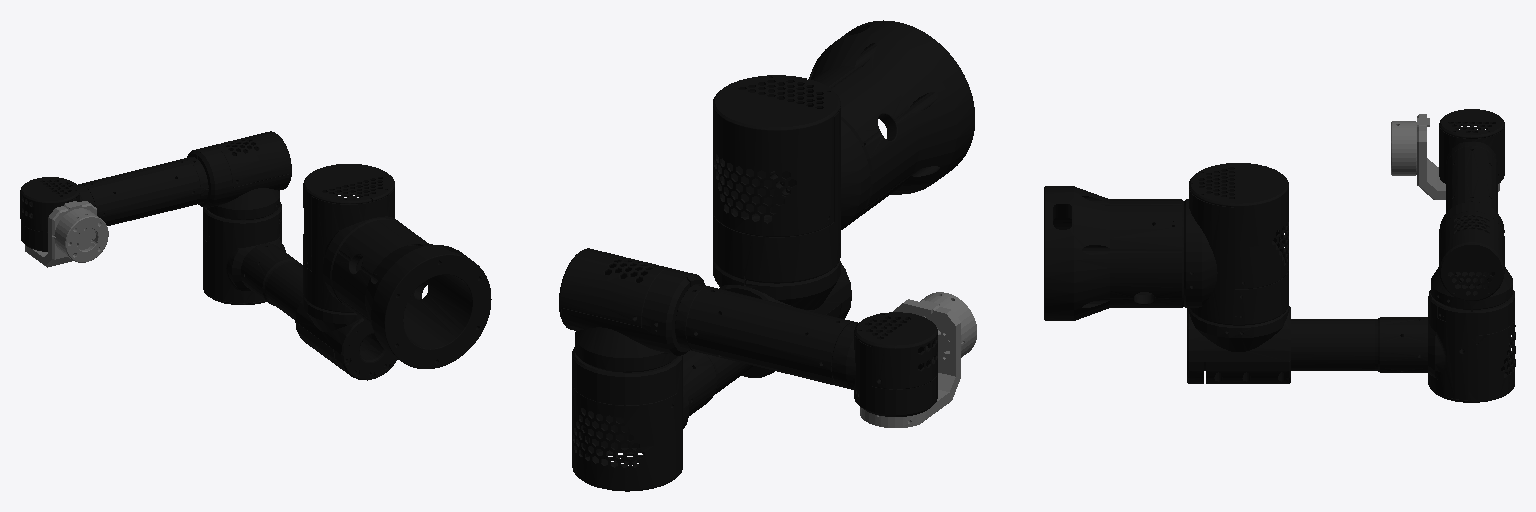
robot.urdf — HexaArm_Mini_Nema_Assem.SLDASM5:
<?xml version="1.0" encoding="utf-8"?>
<!-- This URDF was automatically created by SolidWorks to URDF Exporter! Originally created by Stephen Brawner (brawner@gmail.com) 
     Commit Version: 1.6.0-4-g7f85cfe  Build Version: 1.6.7995.38578
     For more information, please see http://wiki.ros.org/sw_urdf_exporter -->
<robot
  name="HexaArm_Mini_Nema_Assem.SLDASM5">
  <link
    name="base_link">
    <inertial>
      <origin
        xyz="-0.000619586771899105 0.0703032322530621 -0.00106148430765796"
        rpy="0 0 0" />
      <mass
        value="1.08217571048909" />
      <inertia
        ixx="0.00463164331238356"
        ixy="-3.22218490109699E-05"
        ixz="1.9764733562562E-05"
        iyy="0.003870198263406"
        iyz="-5.49317565063621E-05"
        izz="0.00465569487064889" />
    </inertial>
    <visual>
      <origin
        xyz="0 0 0"
        rpy="0 0 0" />
      <geometry>
        <mesh
          filename="package://HexaArm_Mini_Nema_Assem.SLDASM5/meshes/base_link.STL" />
      </geometry>
      <material
        name="">
        <color
          rgba="0.0980392156862745 0.0980392156862745 0.0980392156862745 1" />
      </material>
    </visual>
    <collision>
      <origin
        xyz="0 0 0"
        rpy="0 0 0" />
      <geometry>
        <mesh
          filename="package://HexaArm_Mini_Nema_Assem.SLDASM5/meshes/base_link.STL" />
      </geometry>
    </collision>
  </link>
  <link
    name="Link_1">
    <inertial>
      <origin
        xyz="3.88138147860984E-05 0.0424465866639341 0.00109896219679673"
        rpy="0 0 0" />
      <mass
        value="0.607587806468961" />
      <inertia
        ixx="0.00191607693747045"
        ixy="7.4158114547171E-08"
        ixz="-5.44697602656197E-07"
        iyy="0.00202580543608633"
        iyz="-0.000171809803455921"
        izz="0.00165130031760462" />
    </inertial>
    <visual>
      <origin
        xyz="0 0 0"
        rpy="0 0 0" />
      <geometry>
        <mesh
          filename="package://HexaArm_Mini_Nema_Assem.SLDASM5/meshes/Link_1.STL" />
      </geometry>
      <material
        name="">
        <color
          rgba="0.0980392156862745 0.0980392156862745 0.0980392156862745 1" />
      </material>
    </visual>
    <collision>
      <origin
        xyz="0 0 0"
        rpy="0 0 0" />
      <geometry>
        <mesh
          filename="package://HexaArm_Mini_Nema_Assem.SLDASM5/meshes/Link_1.STL" />
      </geometry>
    </collision>
  </link>
  <joint
    name="Joint_1"
    type="continuous">
    <origin
      xyz="0 0.1605 0"
      rpy="-3.14159265358979 0 3.14159265358842" />
    <parent
      link="base_link" />
    <child
      link="Link_1" />
    <axis
      xyz="0 -1 0" />
  </joint>
  <link
    name="Link_2">
    <inertial>
      <origin
        xyz="-1.54885659161552E-05 0.094342144277815 -0.107331638233284"
        rpy="0 0 0" />
      <mass
        value="1.11953724293919" />
      <inertia
        ixx="0.0172274441423924"
        ixy="3.40668045687898E-06"
        ixz="1.02342554233938E-06"
        iyy="0.00184980071551865"
        iyz="-0.000342542354378944"
        izz="0.0171298822141241" />
    </inertial>
    <visual>
      <origin
        xyz="0 0 0"
        rpy="0 0 0" />
      <geometry>
        <mesh
          filename="package://HexaArm_Mini_Nema_Assem.SLDASM5/meshes/Link_2.STL" />
      </geometry>
      <material
        name="">
        <color
          rgba="0.0980392156862745 0.0980392156862745 0.0980392156862745 1" />
      </material>
    </visual>
    <collision>
      <origin
        xyz="0 0 0"
        rpy="0 0 0" />
      <geometry>
        <mesh
          filename="package://HexaArm_Mini_Nema_Assem.SLDASM5/meshes/Link_2.STL" />
      </geometry>
    </collision>
  </link>
  <joint
    name="Joint_2"
    type="continuous">
    <origin
      xyz="0 0.0625000000000049 -0.000798502810556823"
      rpy="3.14159265358979 0 3.14159265358979" />
    <parent
      link="Link_1" />
    <child
      link="Link_2" />
    <axis
      xyz="0 0 -1" />
  </joint>
  <link
    name="Link_3">
    <inertial>
      <origin
        xyz="0.000885895254364 0.00930543384877369 0.021081024614505"
        rpy="0 0 0" />
      <mass
        value="0.280830447562642" />
      <inertia
        ixx="0.000454000045481955"
        ixy="2.04657657417616E-06"
        ixz="7.40071593815089E-07"
        iyy="0.000342653791090752"
        iyz="6.07527818427745E-05"
        izz="0.000465365946674616" />
    </inertial>
    <visual>
      <origin
        xyz="0 0 0"
        rpy="0 0 0" />
      <geometry>
        <mesh
          filename="package://HexaArm_Mini_Nema_Assem.SLDASM5/meshes/Link_3.STL" />
      </geometry>
      <material
        name="">
        <color
          rgba="0.0980392156862745 0.0980392156862745 0.0980392156862745 1" />
      </material>
    </visual>
    <collision>
      <origin
        xyz="0 0 0"
        rpy="0 0 0" />
      <geometry>
        <mesh
          filename="package://HexaArm_Mini_Nema_Assem.SLDASM5/meshes/Link_3.STL" />
      </geometry>
    </collision>
  </link>
  <joint
    name="Joint_3"
    type="continuous">
    <origin
      xyz="0 0.2675 0"
      rpy="-3.14159265358979 0.041945102597023 -1.5707963267949" />
    <parent
      link="Link_2" />
    <child
      link="Link_3" />
    <axis
      xyz="-0.0419328040352175 0 -0.999120433153953" />
  </joint>
  <link
    name="Link_4">
    <inertial>
      <origin
        xyz="-1.81100666516443E-05 -0.0270768305189328 -0.0565157595844719"
        rpy="0 0 0" />
      <mass
        value="0.393680842488272" />
      <inertia
        ixx="0.002321706714535"
        ixy="-6.35546390347508E-07"
        ixz="-1.08092962262533E-07"
        iyy="0.00195544467088111"
        iyz="-0.00079734597390466"
        izz="0.00065805212329374" />
    </inertial>
    <visual>
      <origin
        xyz="0 0 0"
        rpy="0 0 0" />
      <geometry>
        <mesh
          filename="package://HexaArm_Mini_Nema_Assem.SLDASM5/meshes/Link_4.STL" />
      </geometry>
      <material
        name="">
        <color
          rgba="0.0980392156862745 0.0980392156862745 0.0980392156862745 1" />
      </material>
    </visual>
    <collision>
      <origin
        xyz="0 0 0"
        rpy="0 0 0" />
      <geometry>
        <mesh
          filename="package://HexaArm_Mini_Nema_Assem.SLDASM5/meshes/Link_4.STL" />
      </geometry>
    </collision>
  </link>
  <joint
    name="Joint_4"
    type="continuous">
    <origin
      xyz="3.34834618758162E-05 0.130774218619618 0.000797800473953725"
      rpy="2.0395149480133 0.041945102597023 0" />
    <parent
      link="Link_3" />
    <child
      link="Link_4" />
    <axis
      xyz="0 -0.451743477200769 -0.892147874966117" />
  </joint>
  <link
    name="Link_5">
    <inertial>
      <origin
        xyz="-0.0266124702015702 -0.0283139180562382 -0.000183462420613401"
        rpy="0 0 0" />
      <mass
        value="0.119063873390372" />
      <inertia
        ixx="0.000133716437533054"
        ixy="4.36724337415485E-05"
        ixz="3.40260474913225E-07"
        iyy="0.000106441603853964"
        iyz="-2.19497722284535E-07"
        izz="0.000153071469014331" />
    </inertial>
    <visual>
      <origin
        xyz="0 0 0"
        rpy="0 0 0" />
      <geometry>
        <mesh
          filename="package://HexaArm_Mini_Nema_Assem.SLDASM5/meshes/Link_5.STL" />
      </geometry>
      <material
        name="">
        <color
          rgba="0.43921568627451 0.43921568627451 0.43921568627451 1" />
      </material>
    </visual>
    <collision>
      <origin
        xyz="0 0 0"
        rpy="0 0 0" />
      <geometry>
        <mesh
          filename="package://HexaArm_Mini_Nema_Assem.SLDASM5/meshes/Link_5.STL" />
      </geometry>
    </collision>
  </link>
  <joint
    name="Joint_5"
    type="continuous">
    <origin
      xyz="0 -0.0665082864143298 -0.131347167998647"
      rpy="3.14159265358979 -0.468718621218406 -1.5707963267949" />
    <parent
      link="Link_4" />
    <child
      link="Link_5" />
    <axis
      xyz="-1 0 0" />
  </joint>
  <link
    name="Link_6">
    <inertial>
      <origin
        xyz="0.000118650851475888 -0.000116507152496004 -0.0183821626254401"
        rpy="0 0 0" />
      <mass
        value="0.0635564130562955" />
      <inertia
        ixx="2.15108395533847E-05"
        ixy="-1.98946598045252E-08"
        ixz="2.35151439636222E-08"
        iyy="2.14909562448357E-05"
        iyz="-3.40500205337457E-08"
        izz="3.75545506455234E-05" />
    </inertial>
    <visual>
      <origin
        xyz="0 0 0"
        rpy="0 0 0" />
      <geometry>
        <mesh
          filename="package://HexaArm_Mini_Nema_Assem.SLDASM5/meshes/Link_6.STL" />
      </geometry>
      <material
        name="">
        <color
          rgba="0.43921568627451 0.43921568627451 0.43921568627451 1" />
      </material>
    </visual>
    <collision>
      <origin
        xyz="0 0 0"
        rpy="0 0 0" />
      <geometry>
        <mesh
          filename="package://HexaArm_Mini_Nema_Assem.SLDASM5/meshes/Link_6.STL" />
      </geometry>
    </collision>
  </link>
  <joint
    name="Joint_6"
    type="continuous">
    <origin
      xyz="0.00399999999999801 -0.0635000000000001 0"
      rpy="1.5707963267949 0 3.14159265358979" />
    <parent
      link="Link_5" />
    <child
      link="Link_6" />
    <axis
      xyz="0 0 -1" />
  </joint>
</robot>

--- What the picture shows (computed from the rendered views, not written in the file) ---
The picture shows the robot from 3 angles, left to right: view 1: azimuth 30°, elevation 25°; view 2: azimuth 150°, elevation 25°; view 3: azimuth 270°, elevation 25°; orthographic projection.
Robot: HexaArm_Mini_Nema_Assem.SLDASM5 — 7 links, 6 joints (6 continuous); root link base_link; default pose: all joints at 0.
Visible links, largest first — view 1: base_link, Link_2, Link_4, Link_1, Link_3, Link_6, Link_5; view 2: Link_1, Link_4, Link_2, base_link, Link_3, Link_5, Link_6; view 3: Link_2, base_link, Link_1, Link_3, Link_4, Link_6, Link_5.
Boxes of the visible links, x1,y1,x2,y2 form: base_link: (332,220,491,368); Link_2: (203,202,397,380); Link_4: (20,157,208,251); Link_1: (303,164,401,312); Link_3: (187,131,291,219); Link_6: (54,208,108,262); Link_5: (25,201,96,267); Link_1: (713,75,870,283); Link_4: (675,284,937,416); Link_2: (572,260,851,491); base_link: (809,20,974,221); Link_3: (559,248,704,372); Link_5: (860,299,960,427); Link_6: (920,292,976,359); Link_2: (1187,290,1515,402); base_link: (1044,186,1183,320); Link_1: (1184,163,1288,325); Link_3: (1431,202,1512,309); Link_4: (1439,109,1504,232); Link_6: (1391,121,1416,175); Link_5: (1417,114,1499,199).
Bounding box of the posed robot: 0.393 × 0.5405 × 0.2558 m (x, y, z).
7 mesh visuals loaded from 7 distinct referenced files (7 binary STL).
